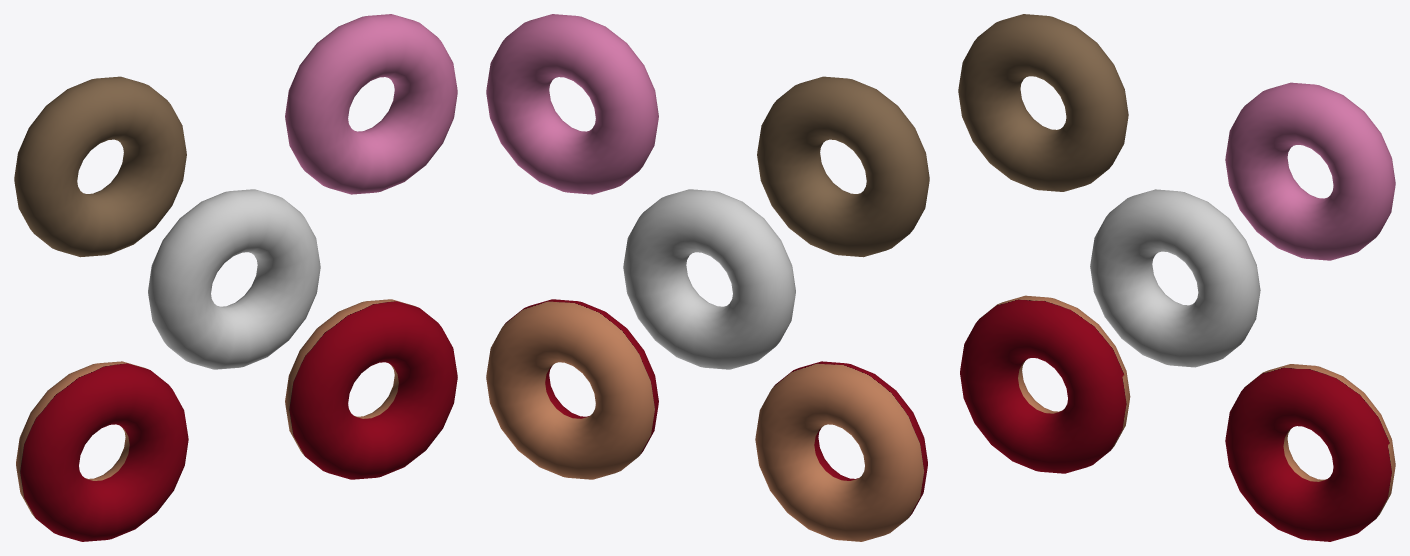
File: Donuts.fbx
3 views of the same model, side by side, from view 1: azimuth 30°, elevation 25°; view 2: azimuth 150°, elevation 25°; view 3: azimuth 330°, elevation 25° (orthographic).
Parts seen in each view (by area): view 1: pTorus6; view 2: pTorus6; view 3: pTorus6.
Part boxes in pixels (box(x1,y1,x2,y2)): pTorus6: box(14, 14, 457, 541); pTorus6: box(486, 14, 929, 541); pTorus6: box(958, 14, 1395, 541).
Size of the model in its own units: 7.93 by 8.03 by 1.
